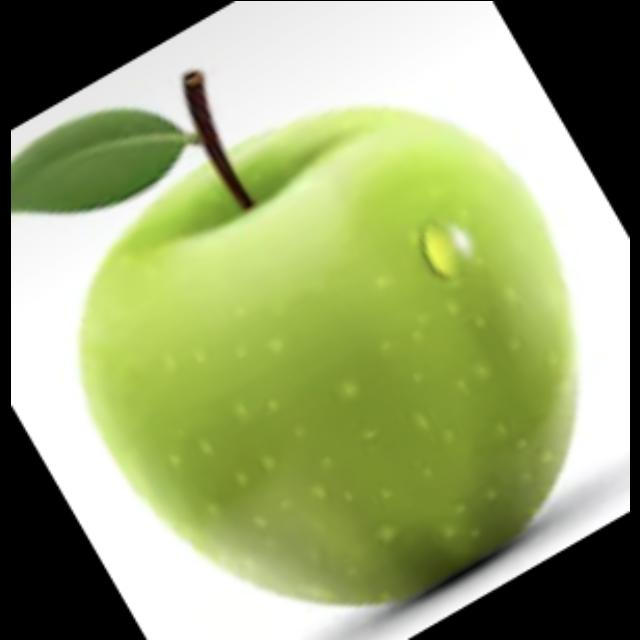Apel Segar: (64, 92, 586, 614)
